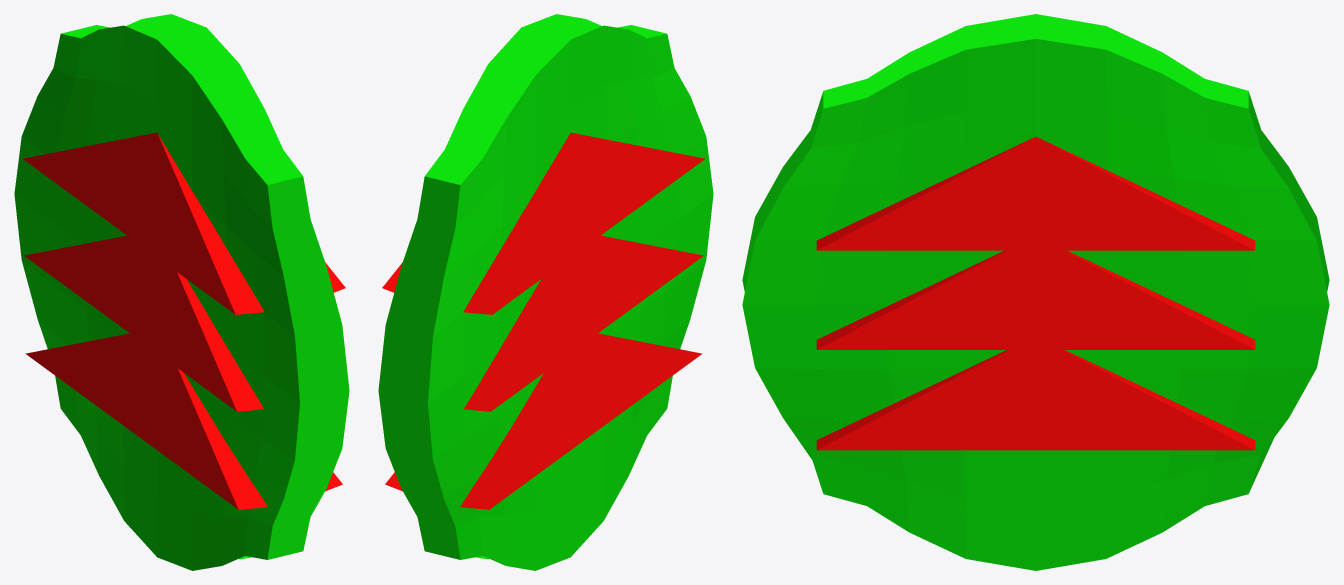
The model's file is SpeedUpArrow.fbx.
3 renders of one model, left to right at view 1: azimuth 30°, elevation 25°; view 2: azimuth 150°, elevation 25°; view 3: azimuth 270°, elevation 25°, orthographic. The views are drawn at different scales.
Parts seen in each view (by area): view 1: 立方体; view 2: 立方体; view 3: 立方体.
Boxes of the visible parts, x1,y1,x2,y2 form: 立方体: [14, 14, 349, 570]; 立方体: [378, 14, 713, 570]; 立方体: [742, 14, 1329, 570].
Size of the model in its own units: 44.57 by 200 by 200.
